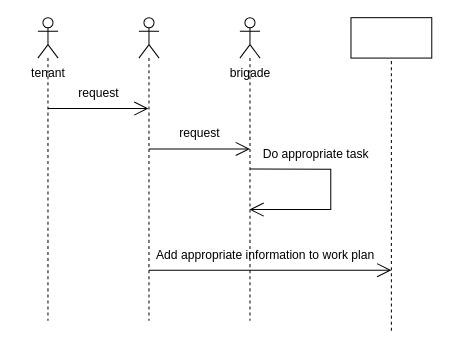
This 449x349 diagram has some shape labels left out. The box of each missing label's shape, as (x1, y1, x2, y2) in pixels:
dispatcher: (138, 17, 159, 321)
Work Plan: (350, 17, 432, 58)
